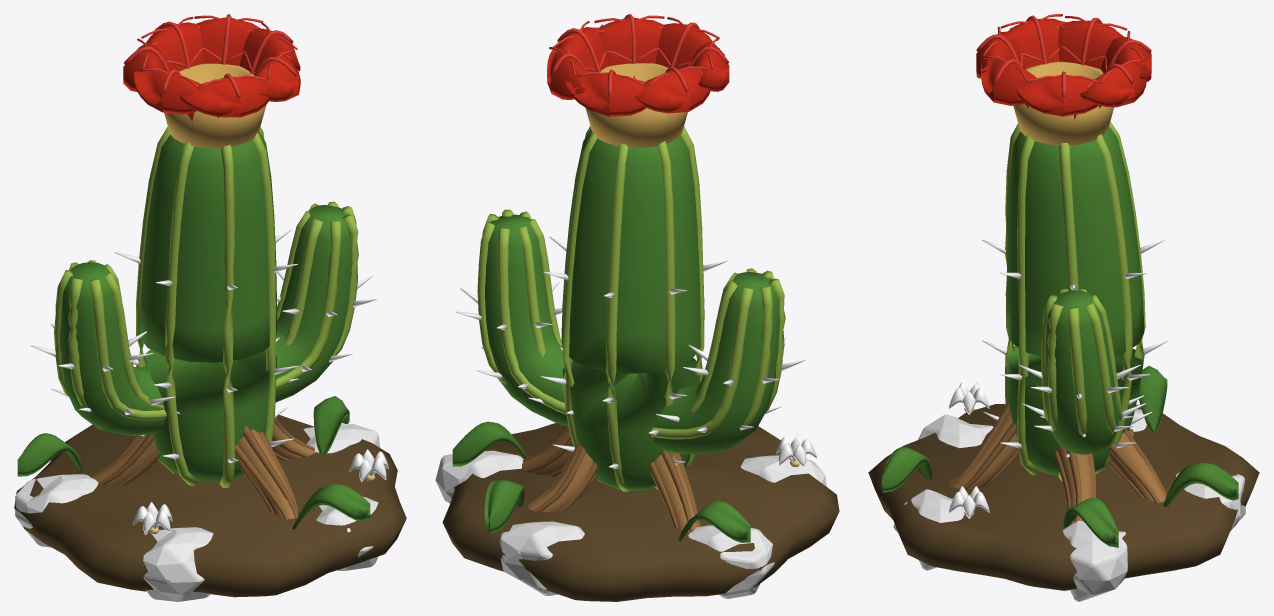
File: cactus-1.fbx
The picture shows the model from 3 angles, left to right: view 1: azimuth 30°, elevation 25°; view 2: azimuth 150°, elevation 25°; view 3: azimuth 270°, elevation 25°; orthographic projection. The views are drawn at different scales.
Parts seen in each view (by area): view 1: Turret_PortalBamboo, cactus-1_Organic, Petals_PortalBamboo, Spines_Petal, cactus-1_Stone, cactus-1_Bark, cactus-1_PortalBamboo, CactusMuzzle, cactus-1_Petal, Petals_Organic, Turret_Organic; view 2: Turret_PortalBamboo, cactus-1_Organic, Petals_PortalBamboo, Spines_Petal, cactus-1_Stone, cactus-1_Bark, cactus-1_PortalBamboo, CactusMuzzle, Petals_Organic, Turret_Organic, cactus-1_Petal; view 3: cactus-1_Organic, Turret_PortalBamboo, Spines_Petal, Petals_PortalBamboo, cactus-1_Stone, cactus-1_Bark, cactus-1_PortalBamboo, CactusMuzzle, cactus-1_Petal, Turret_Organic, Petals_Organic.
Boxes of the visible parts, x1,y1,x2,y2 form: Turret_PortalBamboo: [136, 126, 276, 487]; cactus-1_Organic: [14, 415, 406, 597]; Petals_PortalBamboo: [54, 201, 358, 435]; Spines_Petal: [123, 14, 300, 120]; cactus-1_Stone: [15, 424, 380, 601]; cactus-1_Bark: [89, 418, 315, 519]; cactus-1_PortalBamboo: [17, 396, 370, 529]; CactusMuzzle: [164, 63, 266, 148]; cactus-1_Petal: [132, 449, 388, 534]; Petals_Organic: [30, 271, 377, 415]; Turret_Organic: [114, 229, 298, 462]; Turret_PortalBamboo: [561, 126, 704, 491]; cactus-1_Organic: [442, 423, 839, 601]; Petals_PortalBamboo: [477, 209, 785, 454]; Spines_Petal: [547, 14, 729, 116]; cactus-1_Stone: [435, 450, 826, 598]; cactus-1_Bark: [522, 426, 700, 532]; cactus-1_PortalBamboo: [452, 421, 750, 542]; CactusMuzzle: [585, 63, 687, 147]; Petals_Organic: [456, 282, 806, 435]; Turret_Organic: [540, 236, 728, 468]; cactus-1_Petal: [776, 434, 816, 467]; cactus-1_Organic: [868, 404, 1259, 590]; Turret_PortalBamboo: [1005, 121, 1145, 481]; Spines_Petal: [976, 14, 1151, 119]; Petals_PortalBamboo: [1041, 289, 1122, 454]; cactus-1_Stone: [893, 404, 1245, 601]; cactus-1_Bark: [949, 401, 1167, 523]; cactus-1_PortalBamboo: [881, 366, 1238, 547]; CactusMuzzle: [1013, 61, 1113, 145]; cactus-1_Petal: [949, 382, 989, 518]; Turret_Organic: [982, 239, 1167, 457]; Petals_Organic: [1018, 318, 1145, 437].
Size of the model in its own units: 82.07 by 113 by 82.7.
